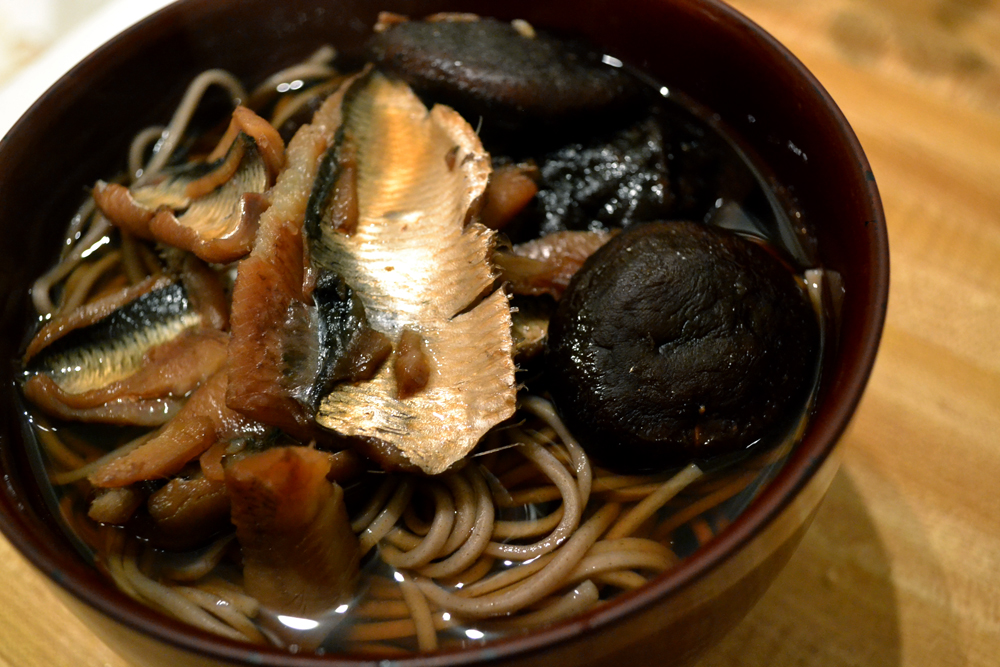Soba: (18, 83, 748, 634)
